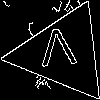V: (37, 28, 79, 76)
